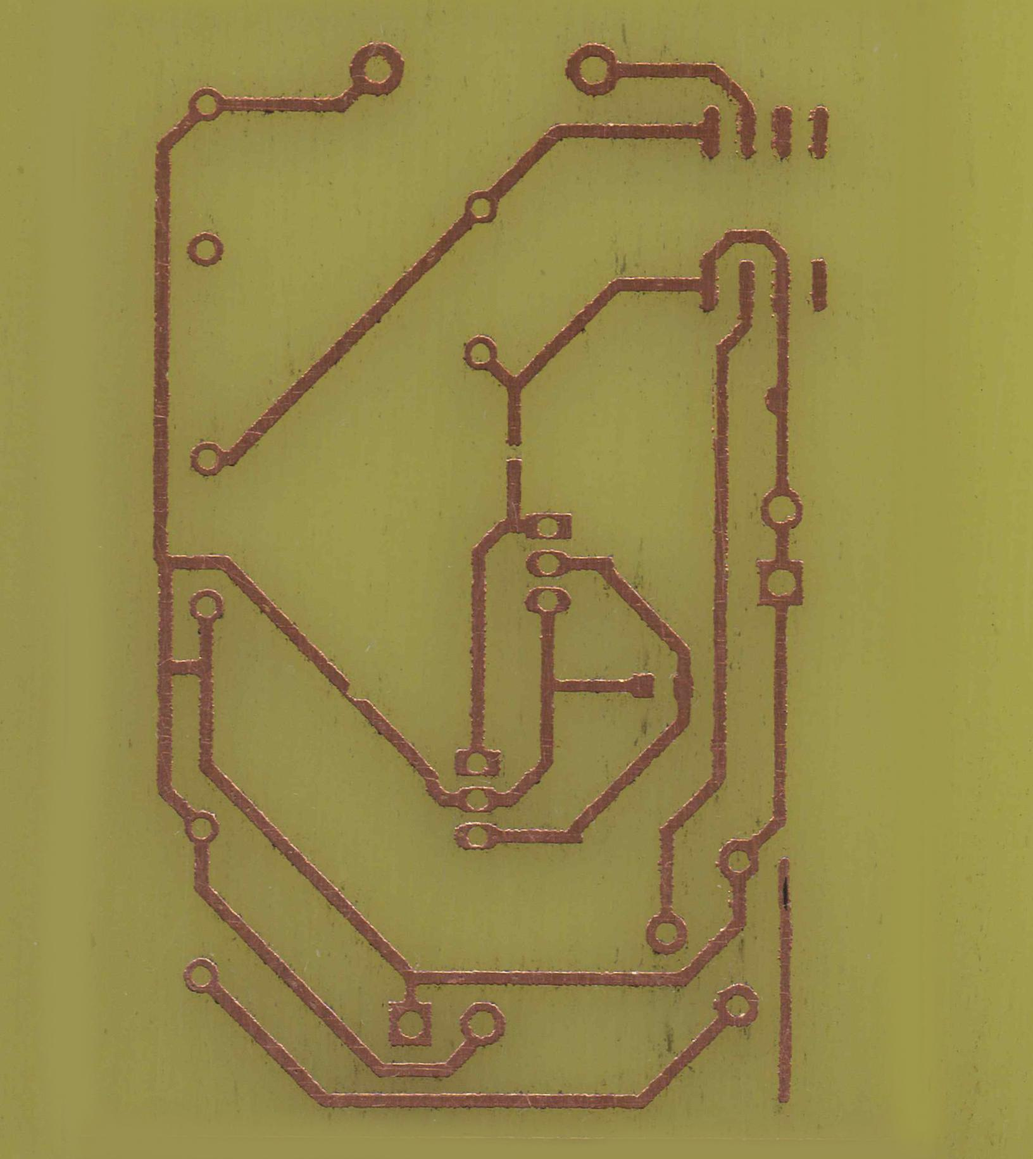mouse_bite: (329, 675, 373, 710)
open_circuit: (499, 429, 529, 473)
short: (151, 651, 219, 683)
spur: (760, 377, 794, 423)
spurious_copper: (770, 846, 800, 1112), (801, 252, 836, 318)
